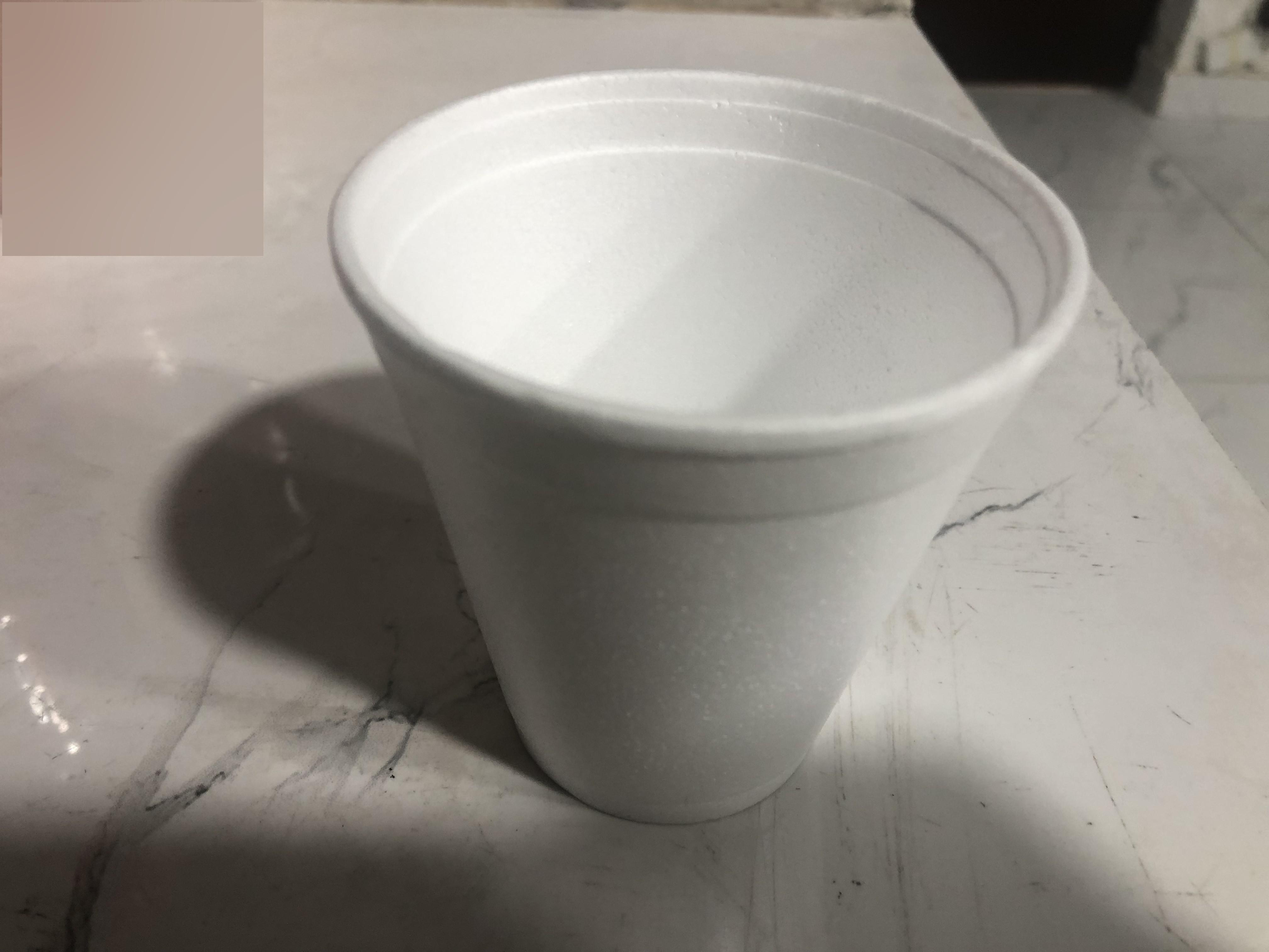cup-disposable: (325, 66, 1093, 821)
